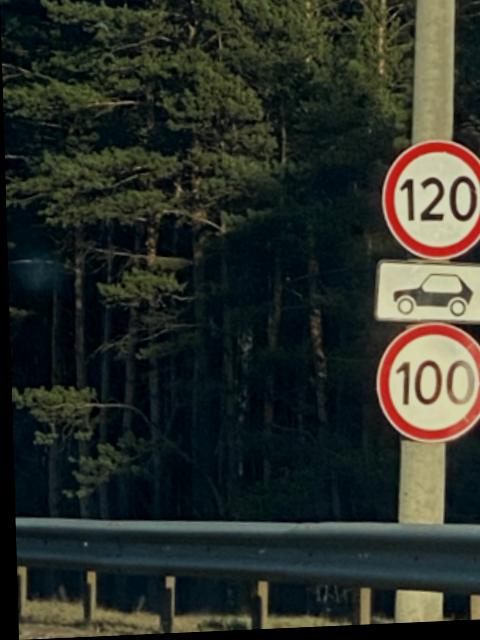limit100: (364, 316, 480, 453)
limit120: (372, 134, 480, 278)
